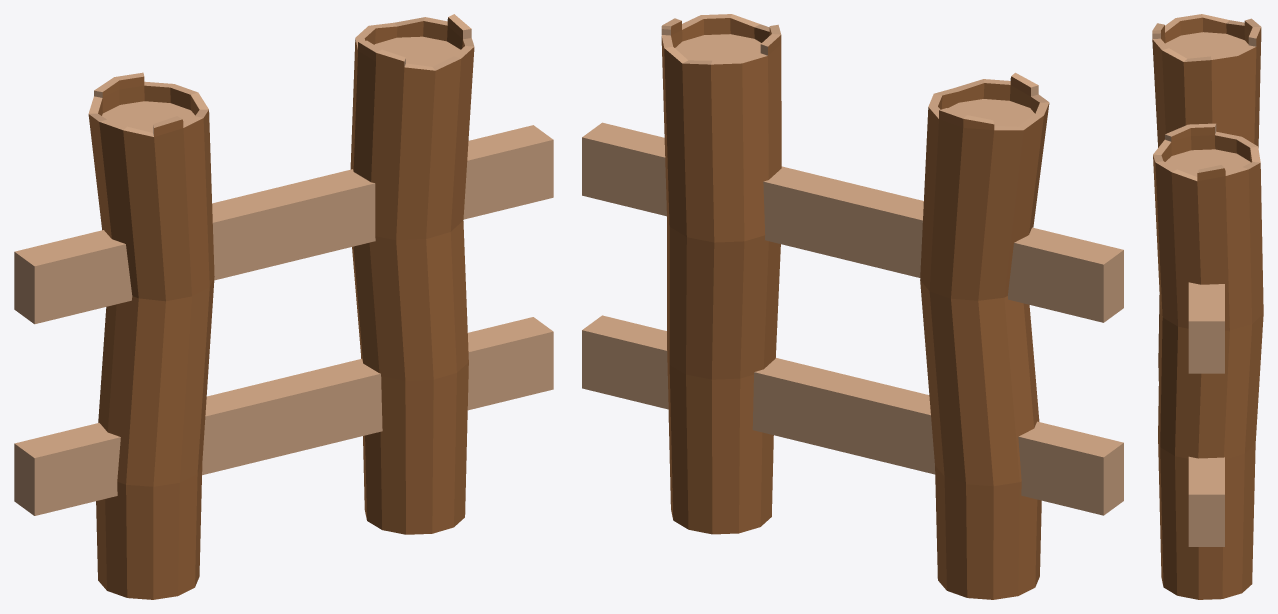
Rendered from guard.fbx.
3 views of the same model, side by side, from view 1: azimuth 30°, elevation 25°; view 2: azimuth 150°, elevation 25°; view 3: azimuth 270°, elevation 25° (orthographic). The views are drawn at different scales.
Visible parts, largest first — view 1: Cylinder.002; view 2: Cylinder.002; view 3: Cylinder.002.
Boxes of the visible parts, x1,y1,x2,y2 form: Cylinder.002: (14,14,553,599); Cylinder.002: (582,14,1123,599); Cylinder.002: (1152,14,1263,599).
Size of the model in its own units: 0.6416 by 0.5675 by 0.1318.
